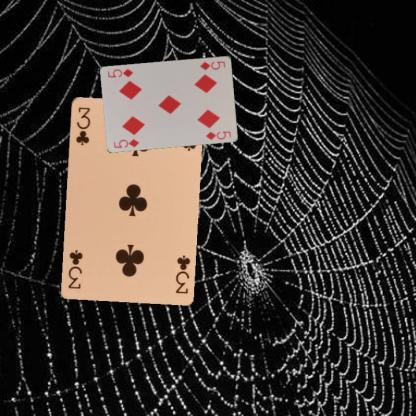3c: (172, 252, 191, 295), (73, 104, 91, 147)
5d: (111, 136, 140, 149), (198, 58, 226, 71)
